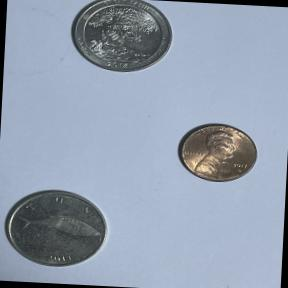Croatia-2Kune-B: (0, 185, 114, 273)
US-1cent-B: (172, 119, 260, 189)
US-25cent-B: (64, 0, 178, 79)
